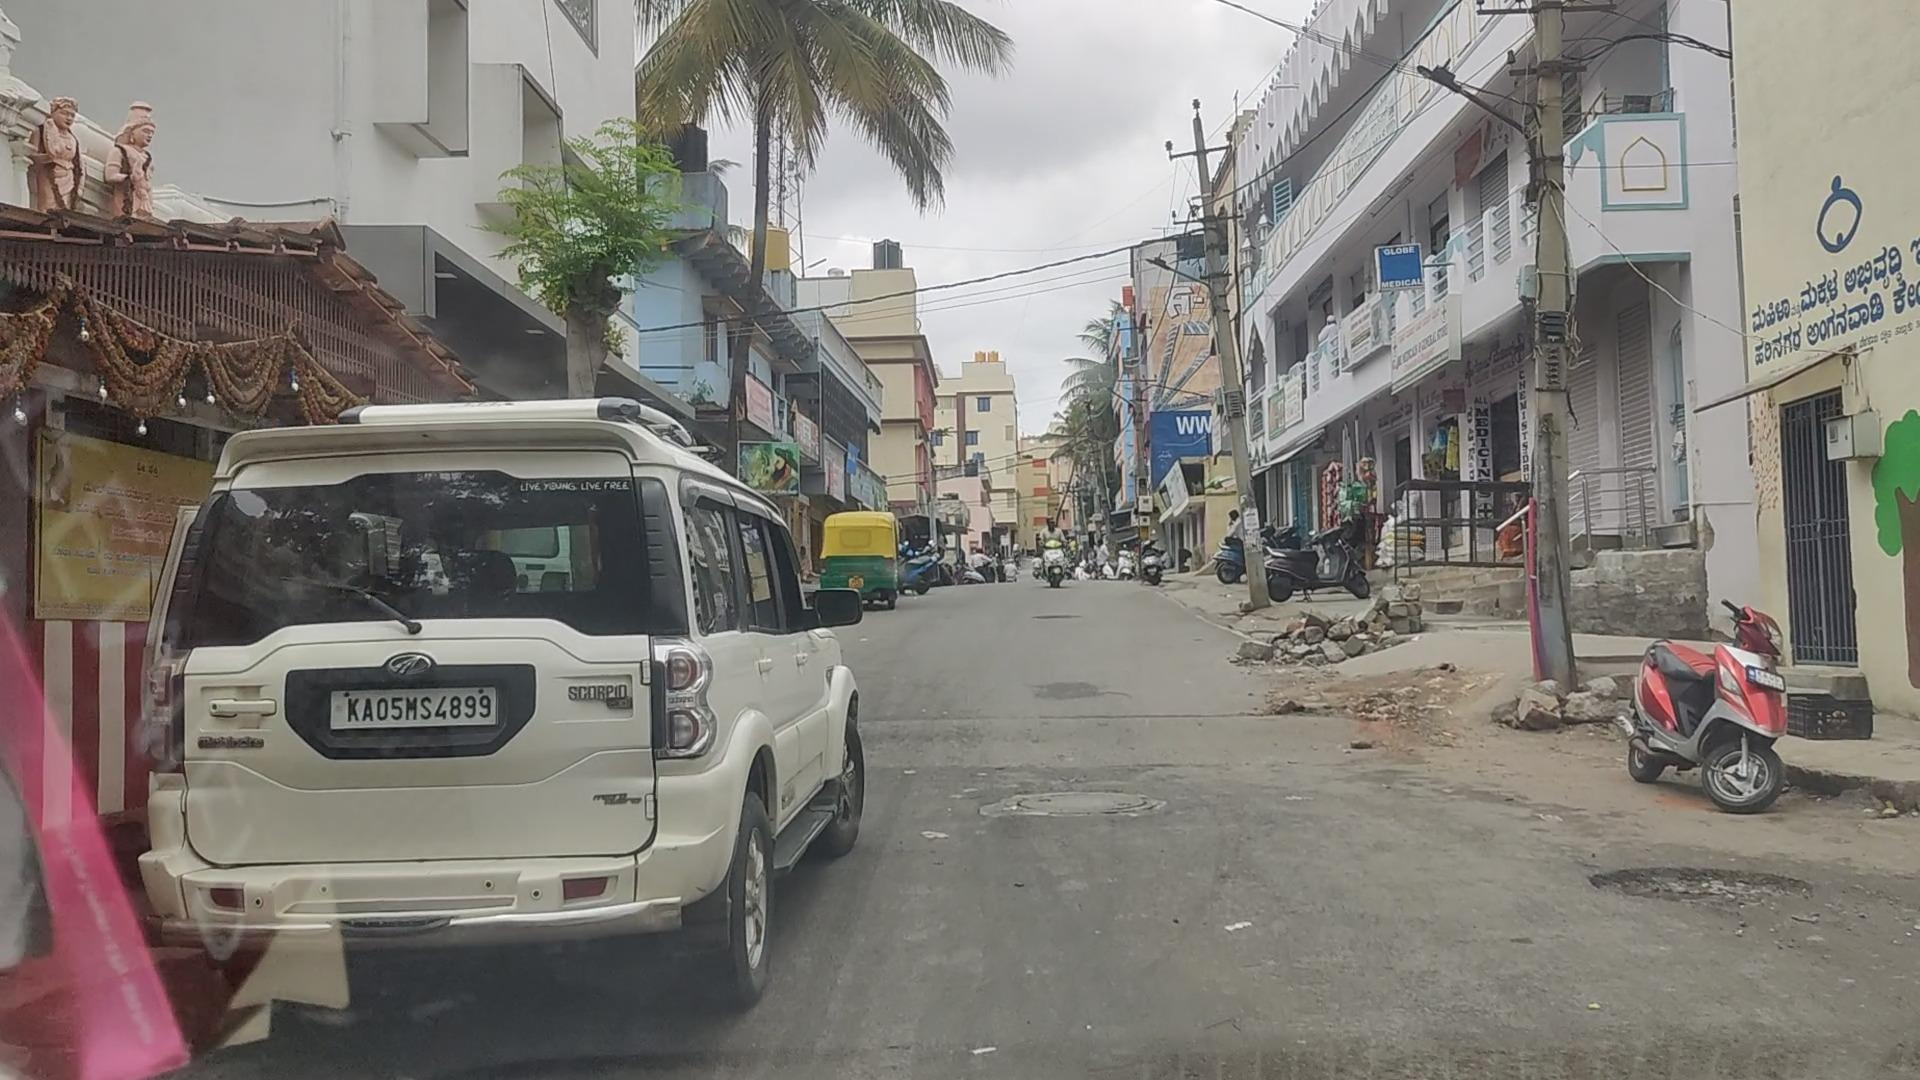RoadDamages: (1556, 861, 1832, 930), (980, 790, 1170, 841)
